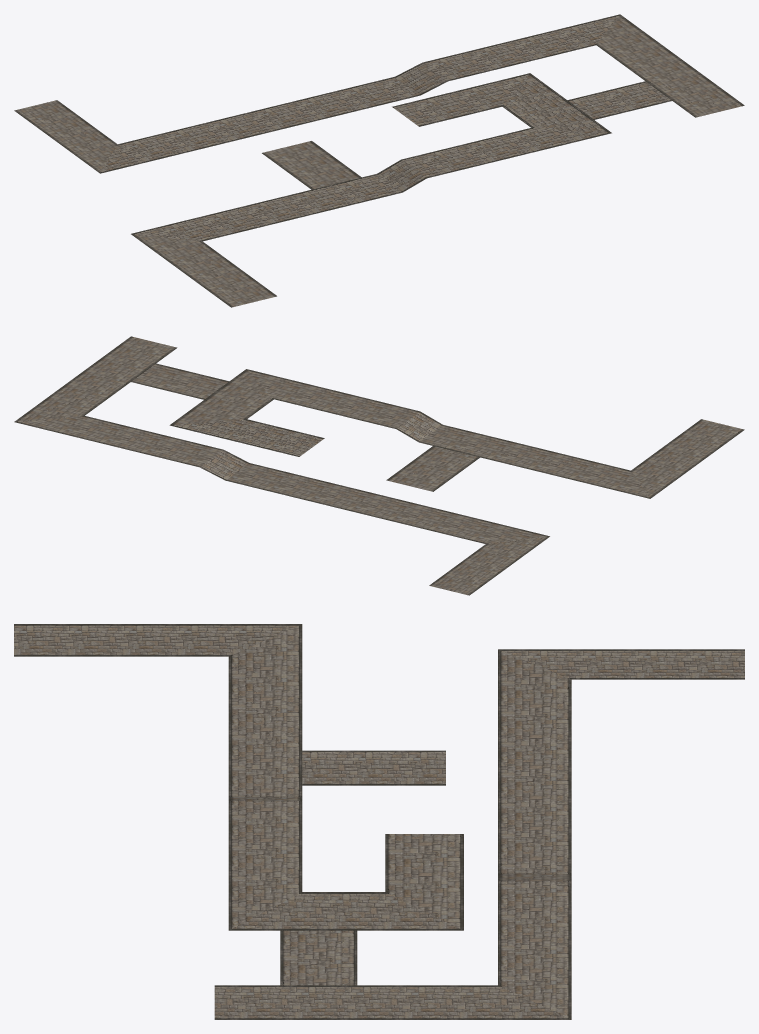
The model's file is Old_PhoenixCastle_Block_wall02.FBX.
The picture shows the model from 3 angles, top to bottom: view 1: azimuth 30°, elevation 25°; view 2: azimuth 150°, elevation 25°; view 3: azimuth 270°, elevation 25°; orthographic projection. The views are drawn at different scales.
Parts seen in each view (by area): view 1: Object007; view 2: Object007; view 3: Object007.
Boxes of the visible parts, x1,y1,x2,y2 form: Object007: (14, 14, 744, 307); Object007: (14, 336, 744, 595); Object007: (14, 624, 744, 1019).
Bounding box in the file's own units: 9178 × 125 × 6953.
1 material, 1 textured.
